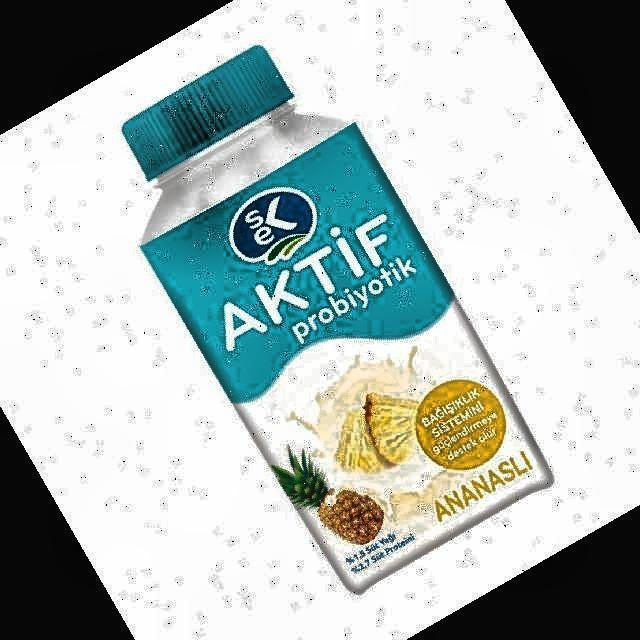plastic: (122, 46, 550, 589)
